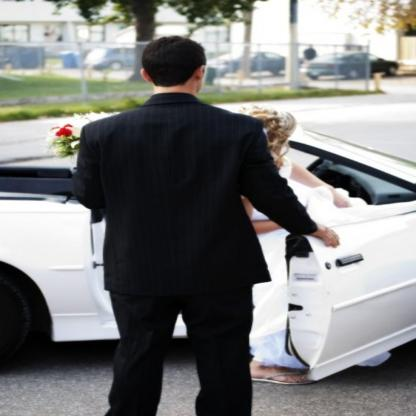Car: (1, 123, 416, 385), (300, 53, 402, 83), (205, 52, 288, 81), (81, 48, 138, 74)
